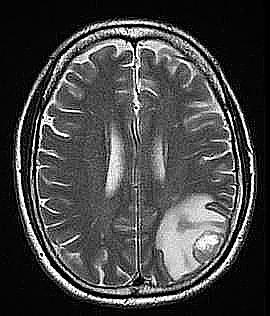Tumor: (155, 194, 228, 281)
